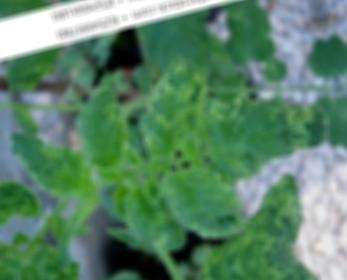Tomato leaf mosaic virus: (183, 74, 341, 192), (126, 53, 224, 167), (148, 151, 250, 256), (7, 113, 104, 213), (64, 74, 138, 177)
